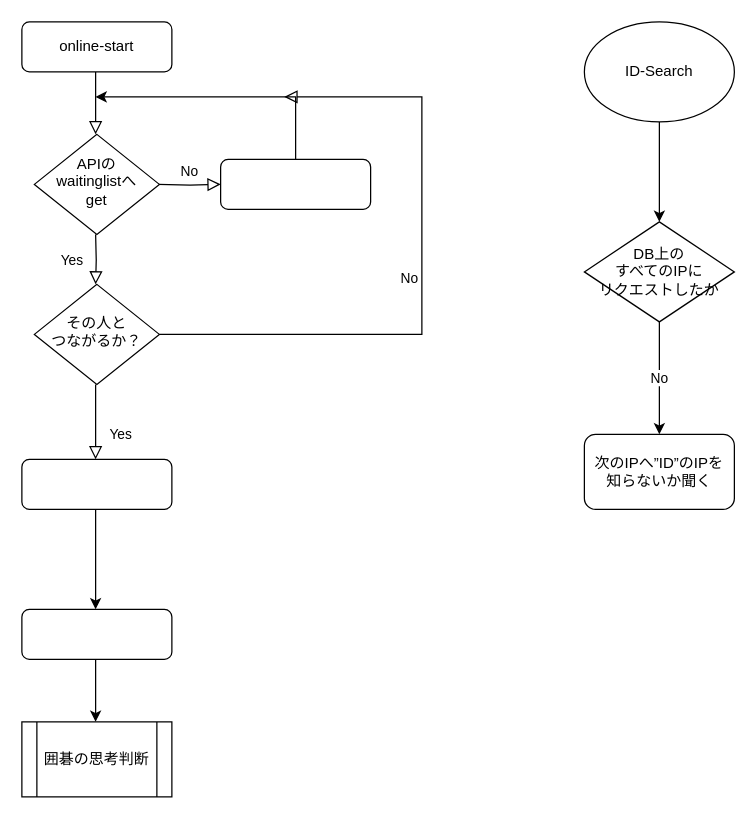
The diagram is 756 pixels wide and 819 high, and some of its shapes have lost their labels. Each missing label, with the centre of its shape:
"APIにDELETE" belongs at (x=96, y=483).
"APIへPOST" belongs at (x=295, y=183).
"通信開始" belongs at (x=96, y=633).
